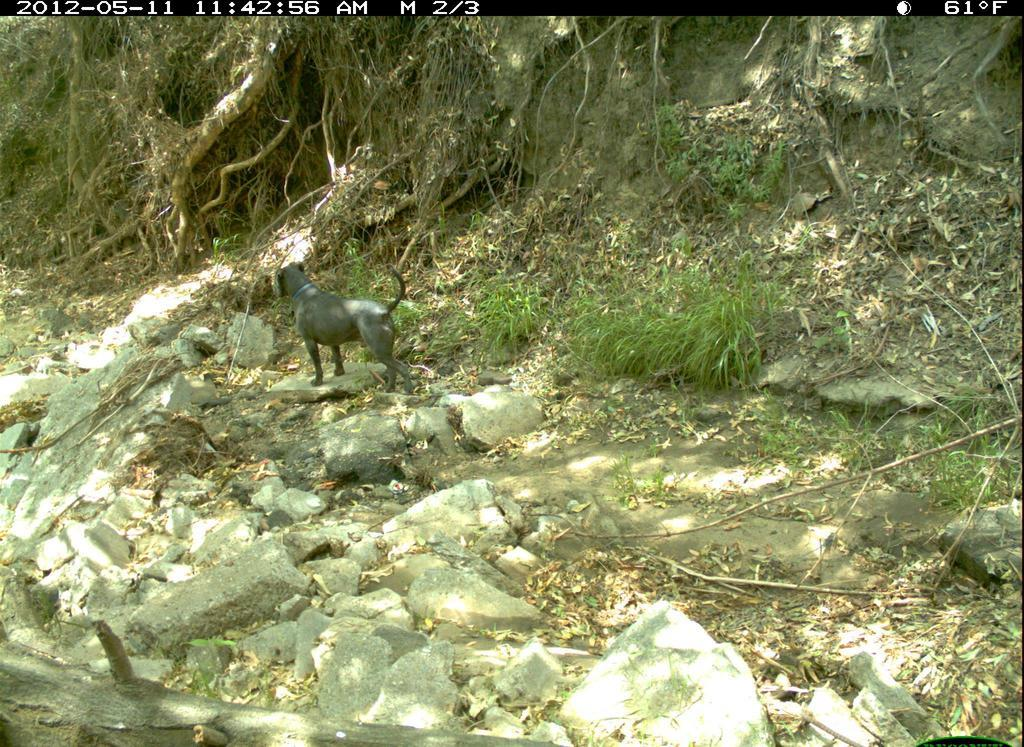dog: (260, 249, 441, 402)
